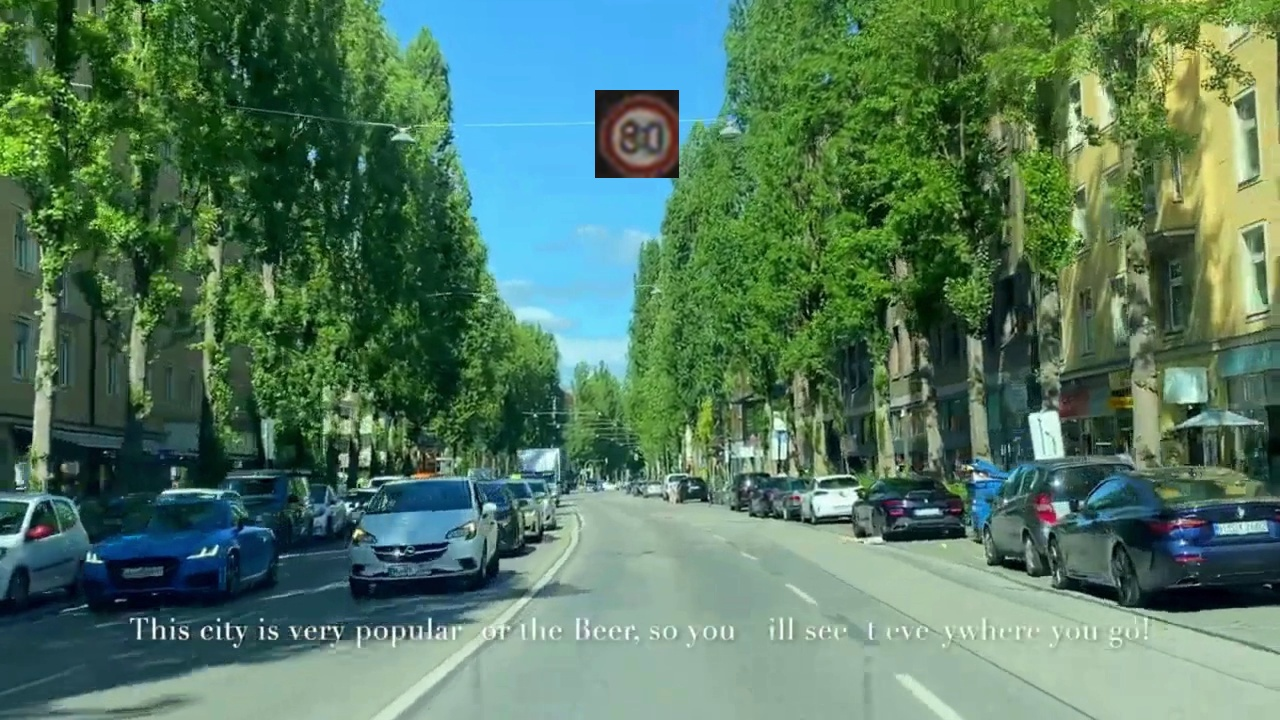Speed 80: (595, 90, 679, 178)
